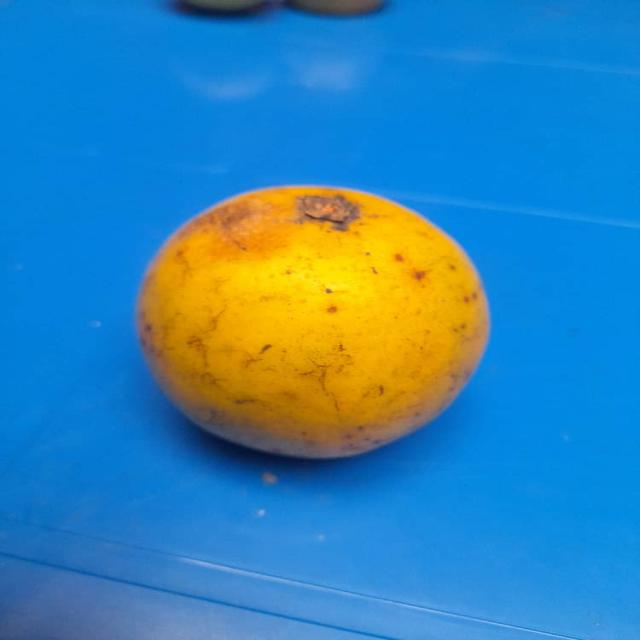Ripe orange: (130, 176, 497, 466)
